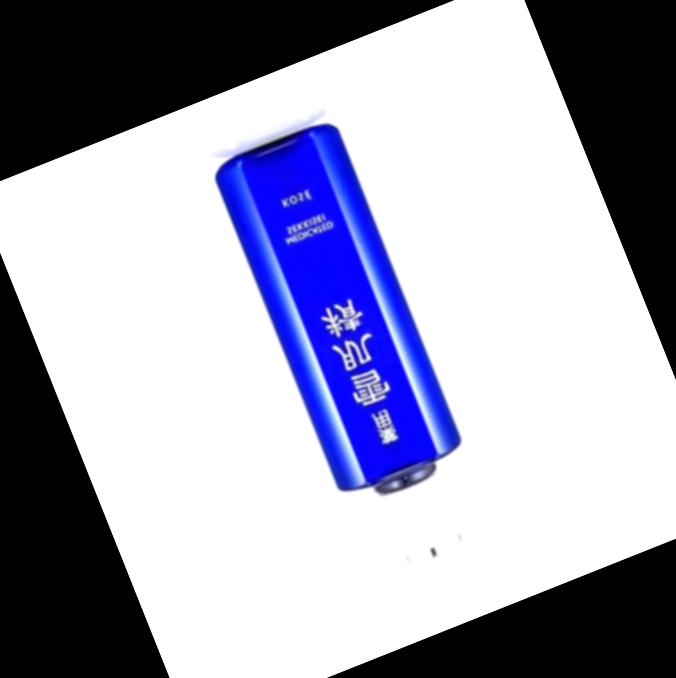cosmetic: (207, 112, 504, 578)
